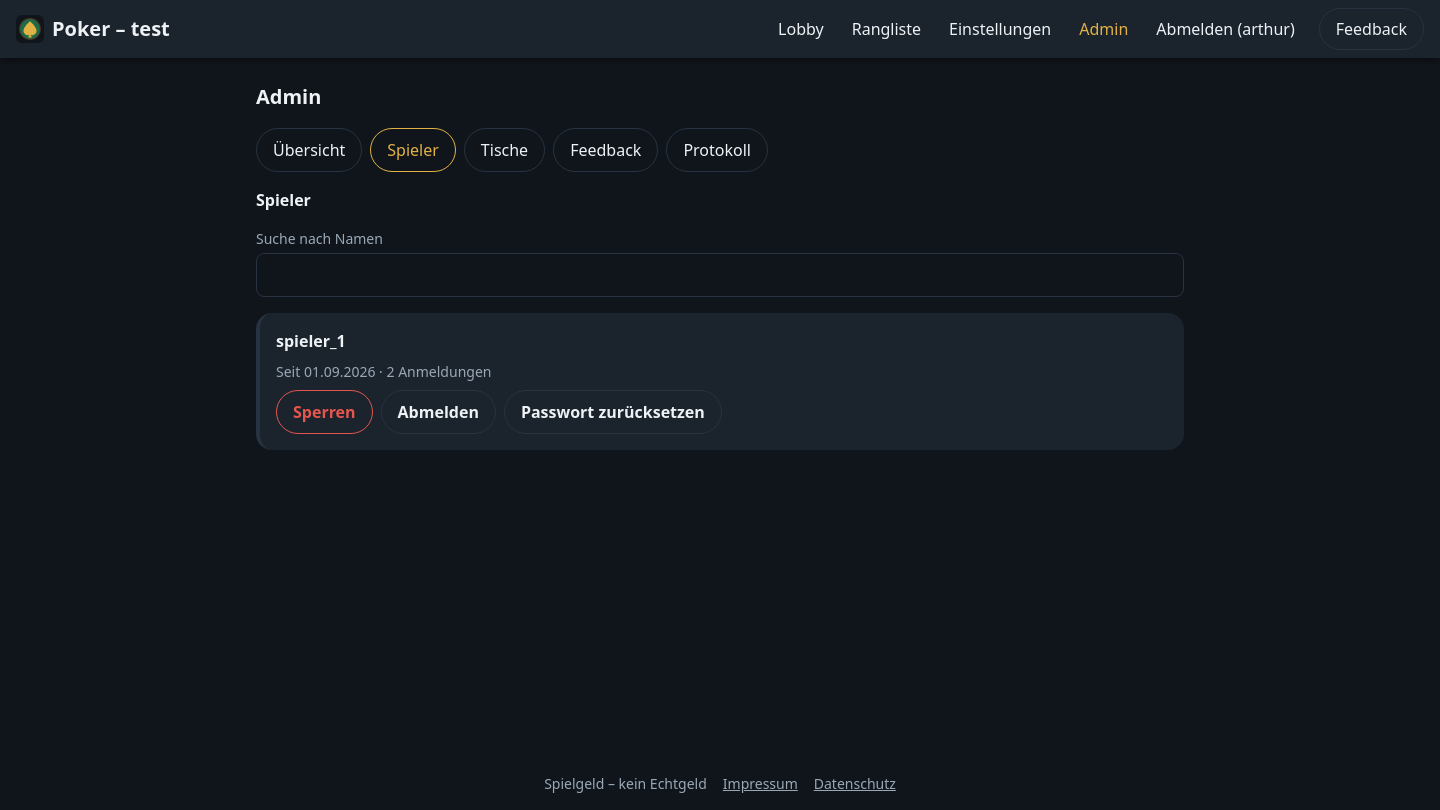
Scenario: Spieler › Sperren nur nach Bestätigung, mit Begründung; Abbrechen sendet nichts
This screenshot has width=1440, height=810.
Check: the heading "spieler_1" is shown, box [276,329,346,353]
Click the button "Sperren" at (324,412), box [276,390,373,434]
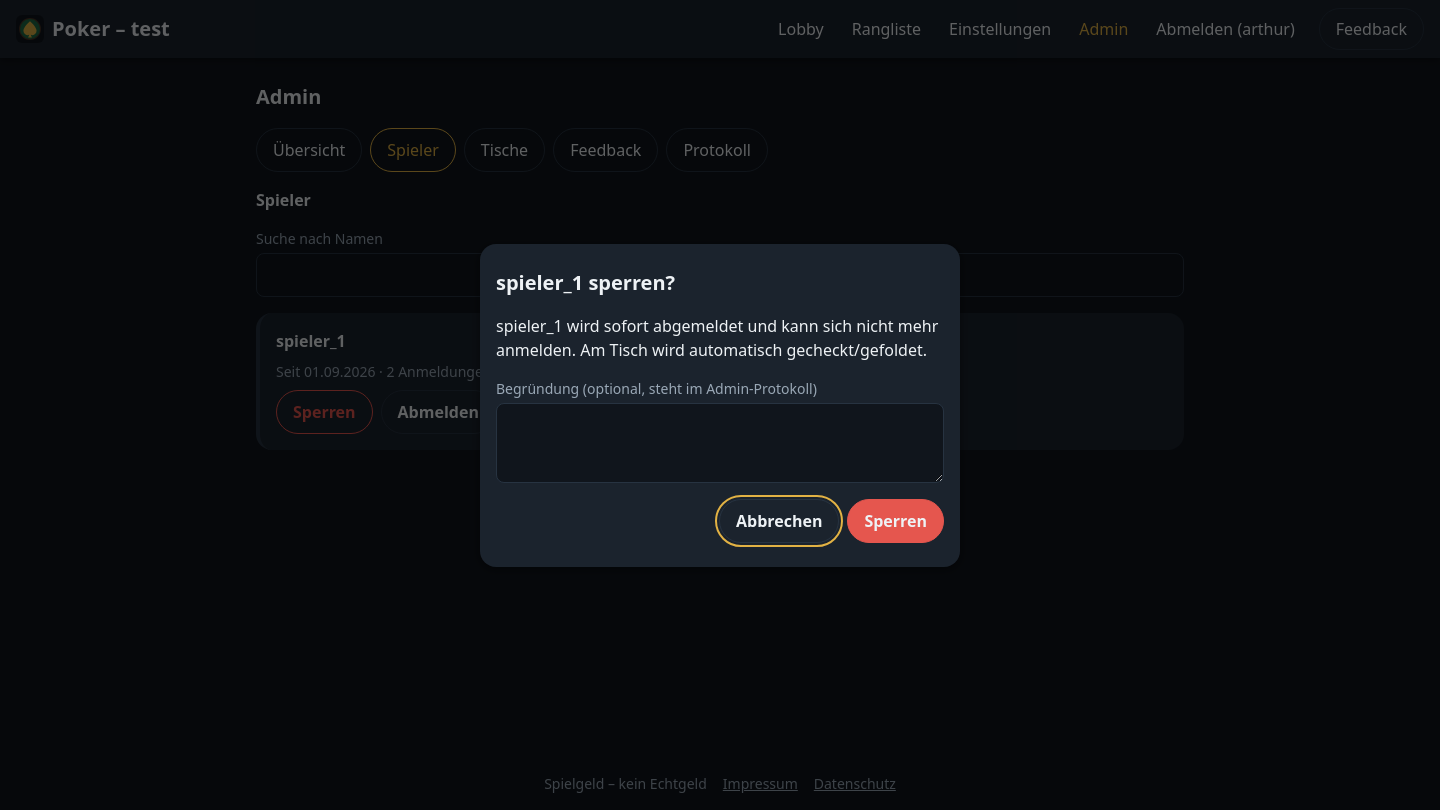
Click the button "Abbrechen" at (779,520), box [719,498,839,542]
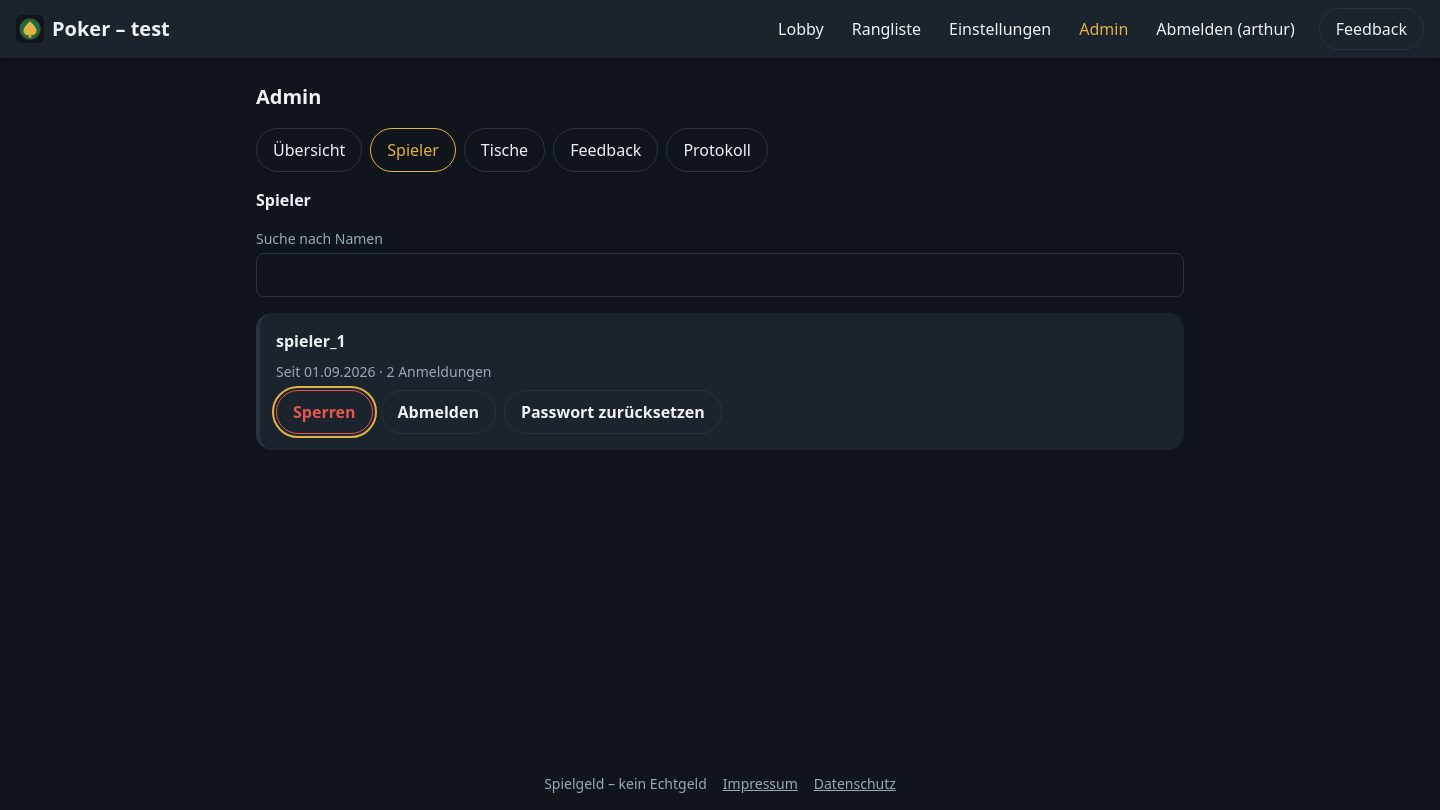
Check: the dialog is gone
Click the button "Sperren" at (324,412), box [276,390,373,434]
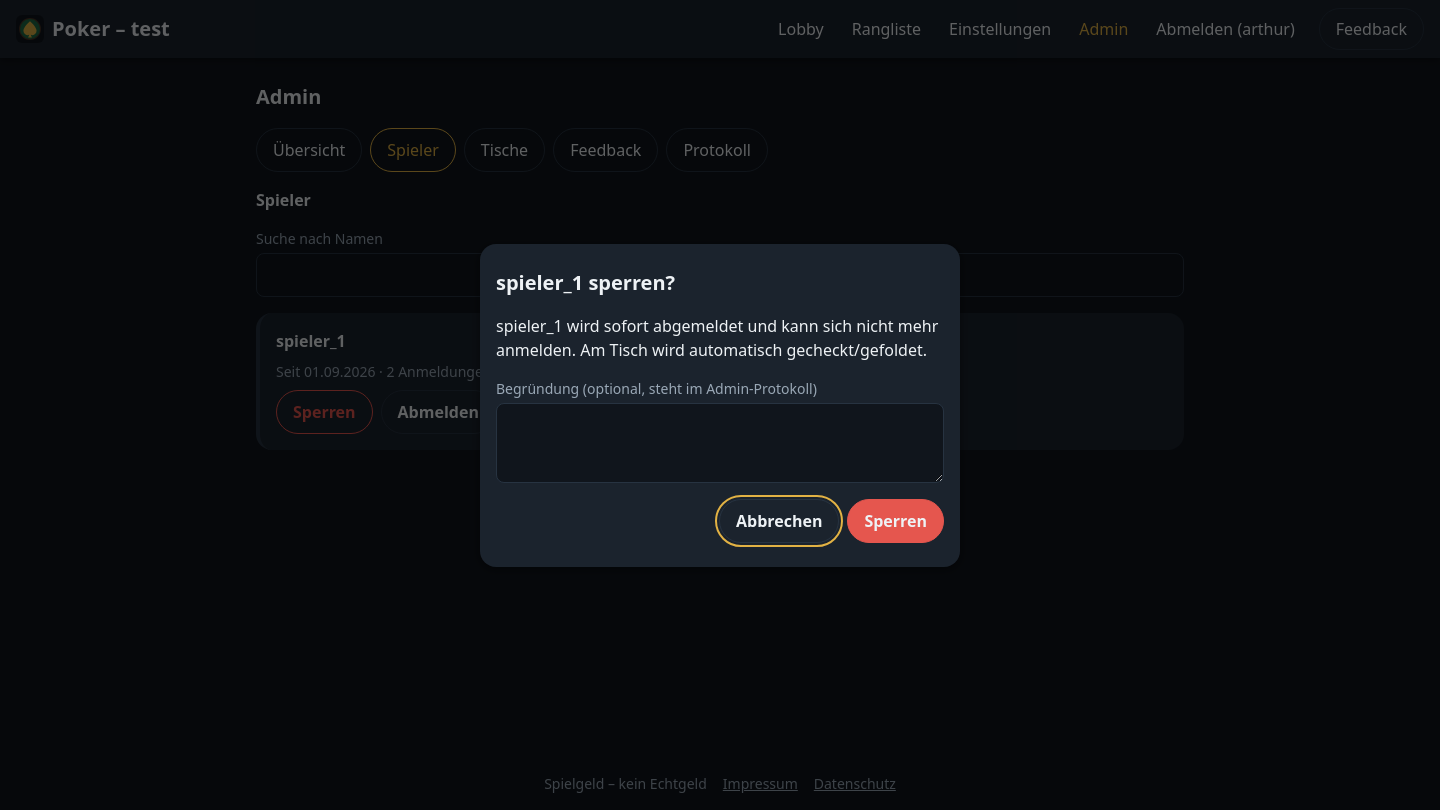
Type "Beleidigungen im Chat" into the text box at (720,442), box [496,402,944,482]
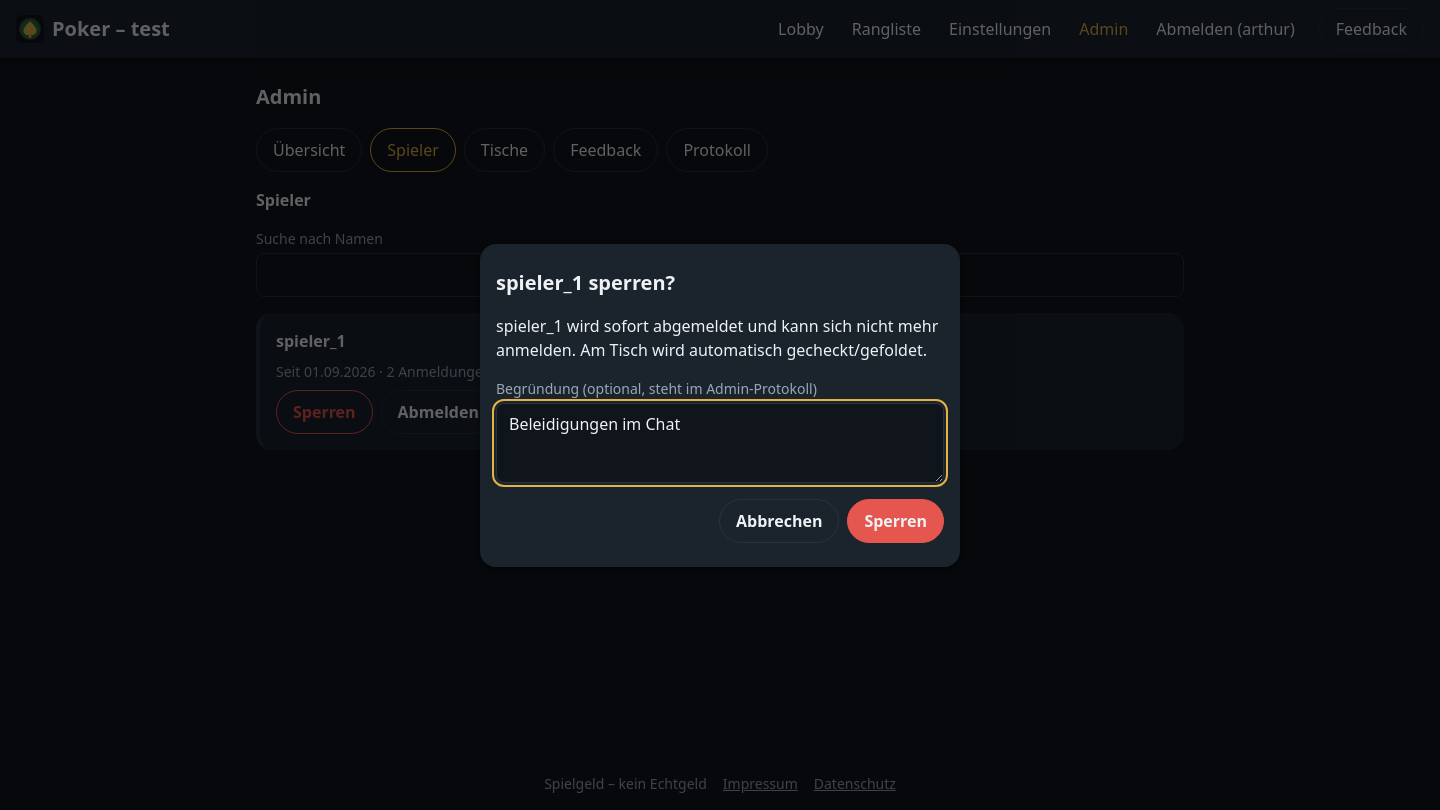
Click the button "Sperren" at (896,520), box [847,498,944,542]
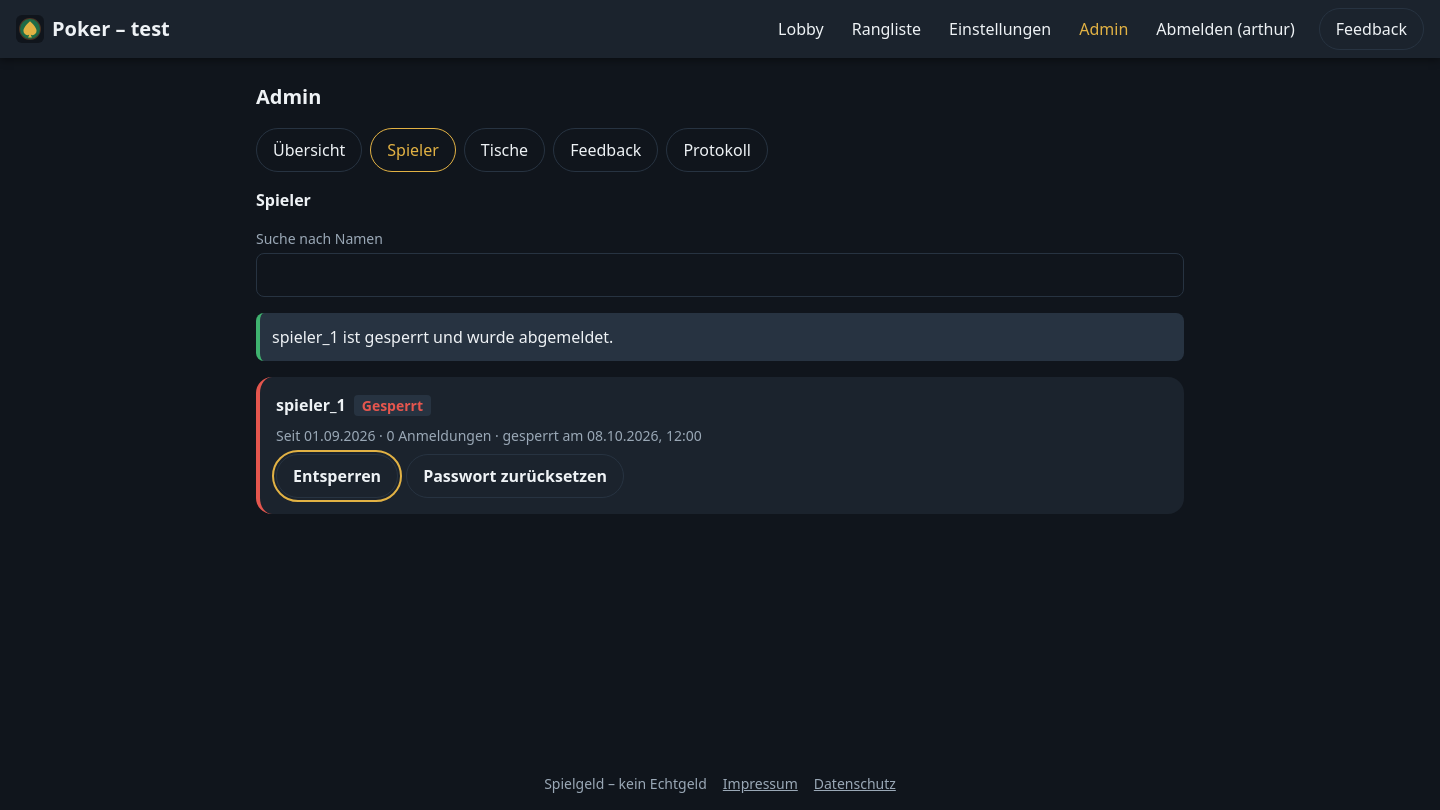
Check: the text "spieler_1 ist gesperrt und wurde abgemeldet." is shown, box [256,313,1184,361]
Check: the dialog is gone
Check: the text "Gesperrt" is shown, box [354,395,431,416]
